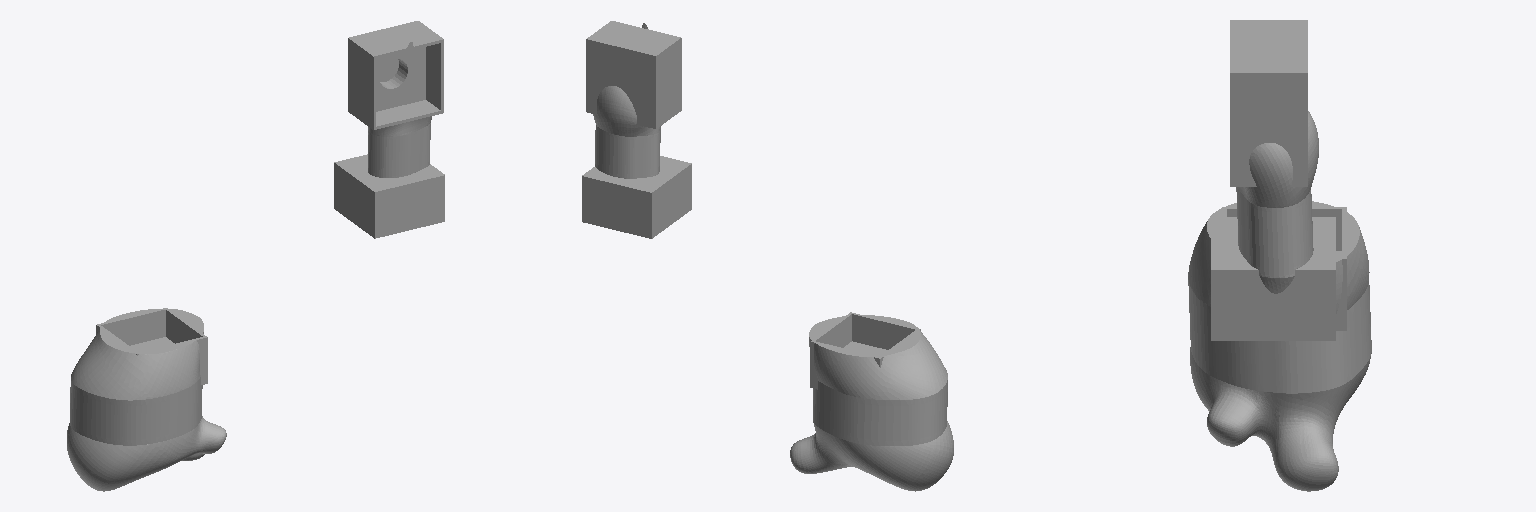
robot.urdf — FrogBot5_top-FrogBot5-x-6_bottom-FrogBot5-x-6:
<?xml version="1.0" ?>
<robot name="FrogBot5_top-FrogBot5-x-6_bottom-FrogBot5-x-6">

<material name="pla_5_percent_infill">
  <color rgba="0.700 0.700 0.700 1.000"/>
</material>

<link name="base_link">
  <inertial>
    <origin xyz="0 0 0" rpy="0 0 0"/>
    <mass value="1.4805118043364613"/>
    <inertia ixx="0.00519778244400068" iyy="0.011185972187213383" izz="0.012581059264896973" ixy="-0.0002102027550041139" iyz="-1.09064860282594e-05" ixz="-0.0008439426245005397"/>
  </inertial>
  <visual>
    <origin xyz="0 0 0" rpy="0 0 0"/>
    <geometry>
      <mesh filename="simple_meshes/base_link.stl" scale="0.001 0.001 0.001"/>
    </geometry>
    <material name="pla_5_percent_infill"/>
  </visual>
  <collision>
    <origin xyz="0 0 0" rpy="0 0 0"/>
    <geometry>
      <mesh filename="simple_meshes/base_link.stl" scale="0.001 0.001 0.001"/>
    </geometry>
  </collision>
</link>

<link name="body_1_0_1">
  <inertial>
    <origin xyz="-0.05492 -0.106321 -0.011198" rpy="0 0 0"/>
    <mass value="0.03884983260969606"/>
    <inertia ixx="4.170578301745194e-05" iyy="4.4962683225508566e-05" izz="1.2590825205717926e-05" ixy="-1.0565215714266035e-07" iyz="-2.019539742988309e-06" ixz="-1.2107108073044245e-06"/>
  </inertial>
  <visual>
    <origin xyz="-0.05492 -0.106321 -0.011198" rpy="0 0 0"/>
    <geometry>
      <mesh filename="simple_meshes/body_1_0_1.stl" scale="0.001 0.001 0.001"/>
    </geometry>
    <material name="pla_5_percent_infill"/>
  </visual>
  <collision>
    <origin xyz="-0.05492 -0.106321 -0.011198" rpy="0 0 0"/>
    <geometry>
      <mesh filename="simple_meshes/body_1_0_1.stl" scale="0.001 0.001 0.001"/>
    </geometry>
  </collision>
</link>

<link name="body_1_1_1">
  <inertial>
    <origin xyz="0.058377 -0.106321 -0.025493" rpy="0 0 0"/>
    <mass value="0.0640724490179146"/>
    <inertia ixx="7.964909327203029e-05" iyy="0.00010194311954723589" izz="4.02268873717351e-05" ixy="-2.1620908907479417e-06" iyz="-1.306376854506928e-06" ixz="-2.9478070887050846e-05"/>
  </inertial>
  <visual>
    <origin xyz="0.058377 -0.106321 -0.025493" rpy="0 0 0"/>
    <geometry>
      <mesh filename="simple_meshes/body_1_1_1.stl" scale="0.001 0.001 0.001"/>
    </geometry>
    <material name="pla_5_percent_infill"/>
  </visual>
  <collision>
    <origin xyz="0.058377 -0.106321 -0.025493" rpy="0 0 0"/>
    <geometry>
      <mesh filename="simple_meshes/body_1_1_1.stl" scale="0.001 0.001 0.001"/>
    </geometry>
  </collision>
</link>

<link name="body_1_2_1">
  <inertial>
    <origin xyz="-0.053934 0.106321 -0.032331" rpy="0 0 0"/>
    <mass value="0.05563842877598316"/>
    <inertia ixx="7.497002196064396e-05" iyy="8.095586345666046e-05" izz="1.909925730497514e-05" ixy="1.8461053509044416e-07" iyz="-1.5884370912450465e-07" ixz="8.151191103132949e-06"/>
  </inertial>
  <visual>
    <origin xyz="-0.053934 0.106321 -0.032331" rpy="0 0 0"/>
    <geometry>
      <mesh filename="simple_meshes/body_1_2_1.stl" scale="0.001 0.001 0.001"/>
    </geometry>
    <material name="pla_5_percent_infill"/>
  </visual>
  <collision>
    <origin xyz="-0.053934 0.106321 -0.032331" rpy="0 0 0"/>
    <geometry>
      <mesh filename="simple_meshes/body_1_2_1.stl" scale="0.001 0.001 0.001"/>
    </geometry>
  </collision>
</link>

<link name="body_1_3_1">
  <inertial>
    <origin xyz="0.057483 0.106321 -0.032919" rpy="0 0 0"/>
    <mass value="0.06200796672995031"/>
    <inertia ixx="8.203586392532521e-05" iyy="9.934747130677514e-05" izz="3.2338545722542704e-05" ixy="-5.828327555165106e-07" iyz="-2.3936281243236066e-06" ixz="-2.5396781439897788e-05"/>
  </inertial>
  <visual>
    <origin xyz="0.057483 0.106321 -0.032919" rpy="0 0 0"/>
    <geometry>
      <mesh filename="simple_meshes/body_1_3_1.stl" scale="0.001 0.001 0.001"/>
    </geometry>
    <material name="pla_5_percent_infill"/>
  </visual>
  <collision>
    <origin xyz="0.057483 0.106321 -0.032919" rpy="0 0 0"/>
    <geometry>
      <mesh filename="simple_meshes/body_1_3_1.stl" scale="0.001 0.001 0.001"/>
    </geometry>
  </collision>
</link>

<link name="body_2_0_1">
  <inertial>
    <origin xyz="-0.051784 -0.143449 0.100454" rpy="0 0 0"/>
    <mass value="0.08983033453324192"/>
    <inertia ixx="0.0001129028371719739" iyy="0.00012016448528999598" izz="9.669178012234768e-05" ixy="-4.565669640618016e-06" iyz="4.704396012114066e-06" ixz="-3.4372645983795714e-06"/>
  </inertial>
  <visual>
    <origin xyz="-0.051784 -0.143449 0.100454" rpy="0 0 0"/>
    <geometry>
      <mesh filename="simple_meshes/body_2_0_1.stl" scale="0.001 0.001 0.001"/>
    </geometry>
    <material name="pla_5_percent_infill"/>
  </visual>
  <collision>
    <origin xyz="-0.051784 -0.143449 0.100454" rpy="0 0 0"/>
    <geometry>
      <mesh filename="simple_meshes/body_2_0_1.stl" scale="0.001 0.001 0.001"/>
    </geometry>
  </collision>
</link>

<link name="body_2_1_1">
  <inertial>
    <origin xyz="0.108798 -0.147527 0.100454" rpy="0 0 0"/>
    <mass value="0.12520642099837706"/>
    <inertia ixx="9.813211103022572e-05" iyy="0.00012209439671824213" izz="9.724009692442786e-05" ixy="-2.3610485365048797e-06" iyz="3.873623748039054e-07" ixz="-8.361973607394491e-07"/>
  </inertial>
  <visual>
    <origin xyz="0.108798 -0.147527 0.100454" rpy="0 0 0"/>
    <geometry>
      <mesh filename="simple_meshes/body_2_1_1.stl" scale="0.001 0.001 0.001"/>
    </geometry>
    <material name="pla_5_percent_infill"/>
  </visual>
  <collision>
    <origin xyz="0.108798 -0.147527 0.100454" rpy="0 0 0"/>
    <geometry>
      <mesh filename="simple_meshes/body_2_1_1.stl" scale="0.001 0.001 0.001"/>
    </geometry>
  </collision>
</link>

<link name="body_2_2_1">
  <inertial>
    <origin xyz="-0.065031 0.147225 0.100454" rpy="0 0 0"/>
    <mass value="0.08944098053403188"/>
    <inertia ixx="0.00011087282553854522" iyy="0.00010926394341471794" izz="8.960666541283323e-05" ixy="6.04525247909968e-06" iyz="-3.7621290671315845e-06" ixz="-6.3944899855697575e-06"/>
  </inertial>
  <visual>
    <origin xyz="-0.065031 0.147225 0.100454" rpy="0 0 0"/>
    <geometry>
      <mesh filename="simple_meshes/body_2_2_1.stl" scale="0.001 0.001 0.001"/>
    </geometry>
    <material name="pla_5_percent_infill"/>
  </visual>
  <collision>
    <origin xyz="-0.065031 0.147225 0.100454" rpy="0 0 0"/>
    <geometry>
      <mesh filename="simple_meshes/body_2_2_1.stl" scale="0.001 0.001 0.001"/>
    </geometry>
  </collision>
</link>

<link name="body_2_3_1">
  <inertial>
    <origin xyz="0.101339 0.151086 0.100454" rpy="0 0 0"/>
    <mass value="0.13516619575576871"/>
    <inertia ixx="0.00012081311612868045" iyy="0.00015451642748556295" izz="0.0001090692719264751" ixy="1.1902656581294808e-06" iyz="-4.996255348883698e-06" ixz="6.998411627305405e-06"/>
  </inertial>
  <visual>
    <origin xyz="0.101339 0.151086 0.100454" rpy="0 0 0"/>
    <geometry>
      <mesh filename="simple_meshes/body_2_3_1.stl" scale="0.001 0.001 0.001"/>
    </geometry>
    <material name="pla_5_percent_infill"/>
  </visual>
  <collision>
    <origin xyz="0.101339 0.151086 0.100454" rpy="0 0 0"/>
    <geometry>
      <mesh filename="simple_meshes/body_2_3_1.stl" scale="0.001 0.001 0.001"/>
    </geometry>
  </collision>
</link>

<joint name="joint_1_0" type="revolute">
  <origin xyz="0.05492 0.106321 0.011198" rpy="0 0 0"/>
  <parent link="base_link"/>
  <child link="body_1_0_1"/>
  <axis xyz="1.0 0.0 0.0"/>
  <limit upper="1.2" lower="-1.2" effort="3.8" velocity="5.4"/>
</joint>
<transmission name="joint_1_0_tran">
  <type>transmission_interface/SimpleTransmission</type>
  <joint name="joint_1_0">
    <hardwareInterface>PositionJointInterface</hardwareInterface>
  </joint>
  <actuator name="joint_1_0_actr">
    <hardwareInterface>PositionJointInterface</hardwareInterface>
    <mechanicalReduction>1</mechanicalReduction>
  </actuator>
</transmission>

<joint name="joint_1_1" type="revolute">
  <origin xyz="-0.058377 0.106321 0.025493" rpy="0 0 0"/>
  <parent link="base_link"/>
  <child link="body_1_1_1"/>
  <axis xyz="1.0 0.0 0.0"/>
  <limit upper="1.2" lower="-1.2" effort="3.8" velocity="5.4"/>
</joint>
<transmission name="joint_1_1_tran">
  <type>transmission_interface/SimpleTransmission</type>
  <joint name="joint_1_1">
    <hardwareInterface>PositionJointInterface</hardwareInterface>
  </joint>
  <actuator name="joint_1_1_actr">
    <hardwareInterface>PositionJointInterface</hardwareInterface>
    <mechanicalReduction>1</mechanicalReduction>
  </actuator>
</transmission>

<joint name="joint_1_2" type="revolute">
  <origin xyz="0.053934 -0.106321 0.032331" rpy="0 0 0"/>
  <parent link="base_link"/>
  <child link="body_1_2_1"/>
  <axis xyz="1.0 0.0 0.0"/>
  <limit upper="1.2" lower="-1.2" effort="3.8" velocity="5.4"/>
</joint>
<transmission name="joint_1_2_tran">
  <type>transmission_interface/SimpleTransmission</type>
  <joint name="joint_1_2">
    <hardwareInterface>PositionJointInterface</hardwareInterface>
  </joint>
  <actuator name="joint_1_2_actr">
    <hardwareInterface>PositionJointInterface</hardwareInterface>
    <mechanicalReduction>1</mechanicalReduction>
  </actuator>
</transmission>

<joint name="joint_1_3" type="revolute">
  <origin xyz="-0.057483 -0.106321 0.032919" rpy="0 0 0"/>
  <parent link="base_link"/>
  <child link="body_1_3_1"/>
  <axis xyz="1.0 0.0 0.0"/>
  <limit upper="1.2" lower="-1.2" effort="3.8" velocity="5.4"/>
</joint>
<transmission name="joint_1_3_tran">
  <type>transmission_interface/SimpleTransmission</type>
  <joint name="joint_1_3">
    <hardwareInterface>PositionJointInterface</hardwareInterface>
  </joint>
  <actuator name="joint_1_3_actr">
    <hardwareInterface>PositionJointInterface</hardwareInterface>
    <mechanicalReduction>1</mechanicalReduction>
  </actuator>
</transmission>

<joint name="joint_2_0" type="revolute">
  <origin xyz="-0.003136 0.037128 -0.111652" rpy="0 0 0"/>
  <parent link="body_1_0_1"/>
  <child link="body_2_0_1"/>
  <axis xyz="1.0 0.0 0.0"/>
  <limit upper="1.2" lower="-1.2" effort="3.8" velocity="5.4"/>
</joint>
<transmission name="joint_2_0_tran">
  <type>transmission_interface/SimpleTransmission</type>
  <joint name="joint_2_0">
    <hardwareInterface>PositionJointInterface</hardwareInterface>
  </joint>
  <actuator name="joint_2_0_actr">
    <hardwareInterface>PositionJointInterface</hardwareInterface>
    <mechanicalReduction>1</mechanicalReduction>
  </actuator>
</transmission>

<joint name="joint_2_1" type="revolute">
  <origin xyz="-0.050421 0.041206 -0.125947" rpy="0 0 0"/>
  <parent link="body_1_1_1"/>
  <child link="body_2_1_1"/>
  <axis xyz="1.0 0.0 0.0"/>
  <limit upper="1.2" lower="-1.2" effort="3.8" velocity="5.4"/>
</joint>
<transmission name="joint_2_1_tran">
  <type>transmission_interface/SimpleTransmission</type>
  <joint name="joint_2_1">
    <hardwareInterface>PositionJointInterface</hardwareInterface>
  </joint>
  <actuator name="joint_2_1_actr">
    <hardwareInterface>PositionJointInterface</hardwareInterface>
    <mechanicalReduction>1</mechanicalReduction>
  </actuator>
</transmission>

<joint name="joint_2_2" type="revolute">
  <origin xyz="0.011097 -0.040904 -0.132785" rpy="0 0 0"/>
  <parent link="body_1_2_1"/>
  <child link="body_2_2_1"/>
  <axis xyz="1.0 0.0 0.0"/>
  <limit upper="1.2" lower="-1.2" effort="3.8" velocity="5.4"/>
</joint>
<transmission name="joint_2_2_tran">
  <type>transmission_interface/SimpleTransmission</type>
  <joint name="joint_2_2">
    <hardwareInterface>PositionJointInterface</hardwareInterface>
  </joint>
  <actuator name="joint_2_2_actr">
    <hardwareInterface>PositionJointInterface</hardwareInterface>
    <mechanicalReduction>1</mechanicalReduction>
  </actuator>
</transmission>

<joint name="joint_2_3" type="revolute">
  <origin xyz="-0.043856 -0.044765 -0.133373" rpy="0 0 0"/>
  <parent link="body_1_3_1"/>
  <child link="body_2_3_1"/>
  <axis xyz="1.0 0.0 0.0"/>
  <limit upper="1.2" lower="-1.2" effort="3.8" velocity="5.4"/>
</joint>
<transmission name="joint_2_3_tran">
  <type>transmission_interface/SimpleTransmission</type>
  <joint name="joint_2_3">
    <hardwareInterface>PositionJointInterface</hardwareInterface>
  </joint>
  <actuator name="joint_2_3_actr">
    <hardwareInterface>PositionJointInterface</hardwareInterface>
    <mechanicalReduction>1</mechanicalReduction>
  </actuator>
</transmission>

</robot>

--- Render facts (derived) ---
Views: 3 orthographic renders of the robot side by side, from view 1: azimuth 30°, elevation 25°; view 2: azimuth 150°, elevation 25°; view 3: azimuth 270°, elevation 25°.
Model FrogBot5_top-FrogBot5-x-6_bottom-FrogBot5-x-6 with 9 links and 8 joints (8 revolute), rooted at base_link, posed every joint at zero.
Links seen in each view (by area): view 1: body_2_1_1, body_1_0_1; view 2: body_2_1_1, body_1_0_1; view 3: body_1_0_1, body_2_1_1.
Boxes of the visible links, x1,y1,x2,y2 form: body_2_1_1: (67, 308, 226, 491); body_1_0_1: (334, 21, 444, 238); body_2_1_1: (790, 312, 953, 491); body_1_0_1: (582, 21, 691, 238); body_1_0_1: (1211, 20, 1335, 340); body_2_1_1: (1188, 201, 1371, 491).
Bounding box of the posed robot: 0.2454 × 0.0711 × 0.2537 m (x, y, z).
2 mesh visuals loaded from 9 distinct referenced files (2 binary STL); not drawn: 7 (reference not matched to a file when rendering).